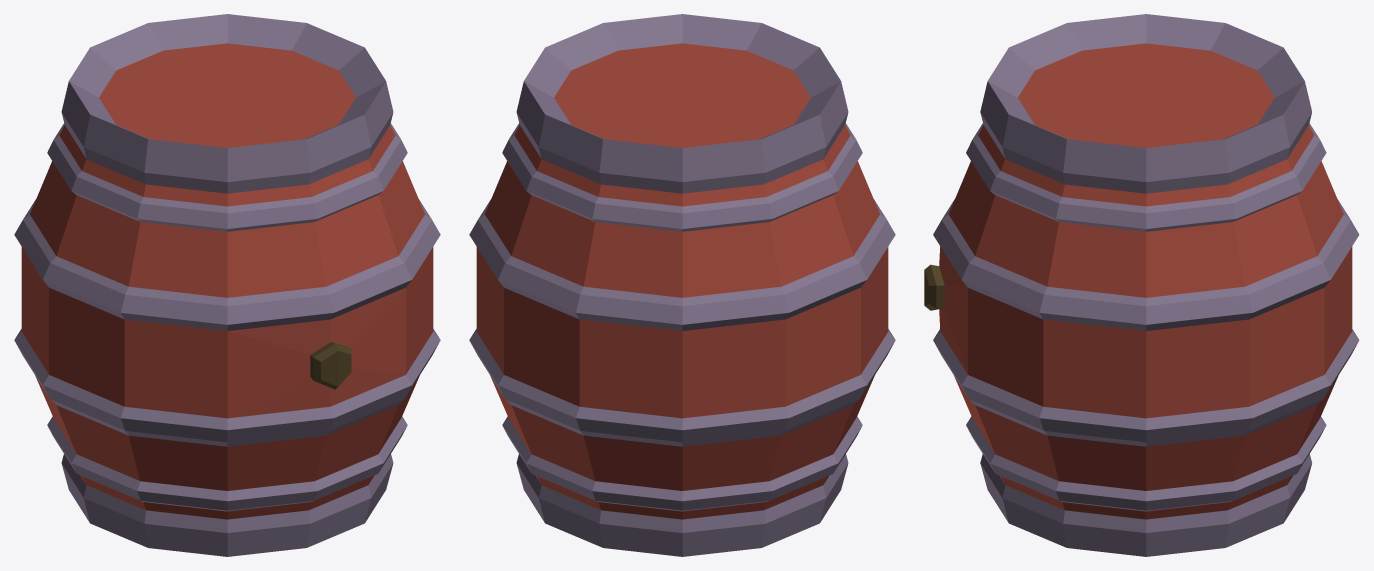
The model's file is OldBarrel.fbx.
3 renders of one model, left to right at view 1: azimuth 30°, elevation 25°; view 2: azimuth 150°, elevation 25°; view 3: azimuth 270°, elevation 25°, orthographic.
Visible parts, largest first — view 1: OldBarrel; view 2: OldBarrel; view 3: OldBarrel.
Part boxes in pixels (box(x1,y1,x2,y2)): OldBarrel: box(14, 14, 440, 556); OldBarrel: box(469, 14, 895, 556); OldBarrel: box(924, 14, 1359, 556).
Size of the model in its own units: 41.86 by 44.28 by 42.69.
